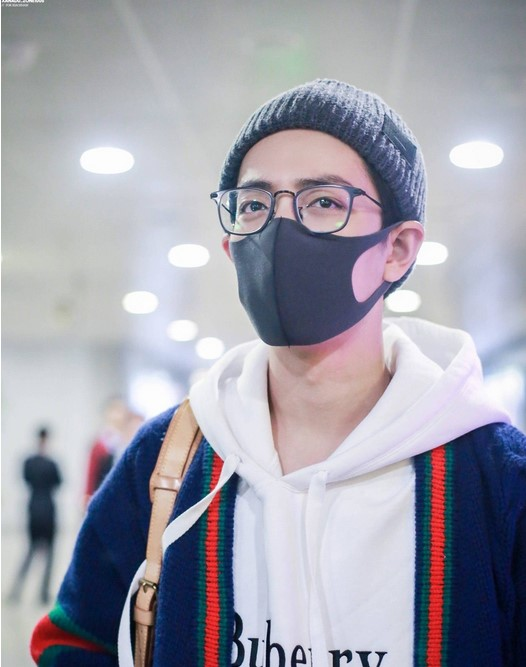face_with_mask: (209, 79, 428, 352)
